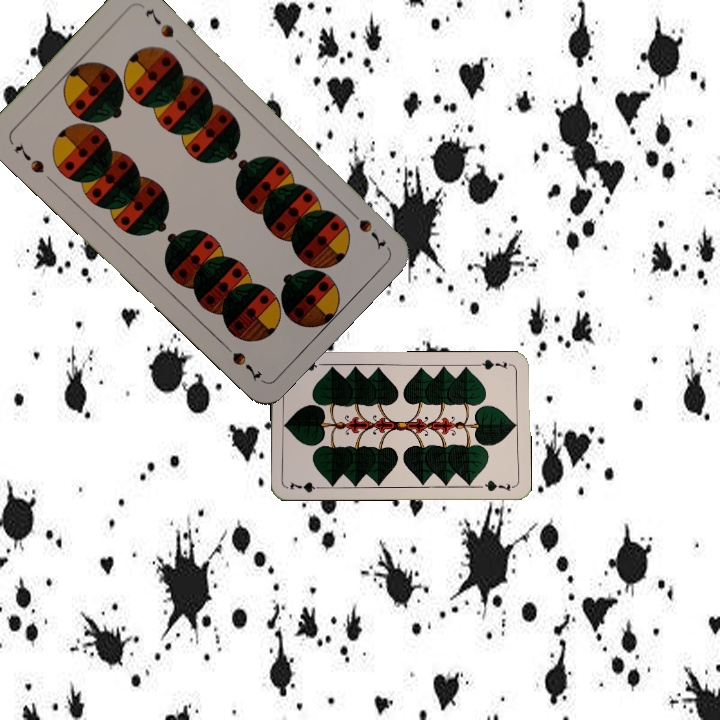G7: (286, 478, 326, 496), (474, 355, 514, 372)
S7: (343, 204, 389, 252), (10, 139, 47, 176)
